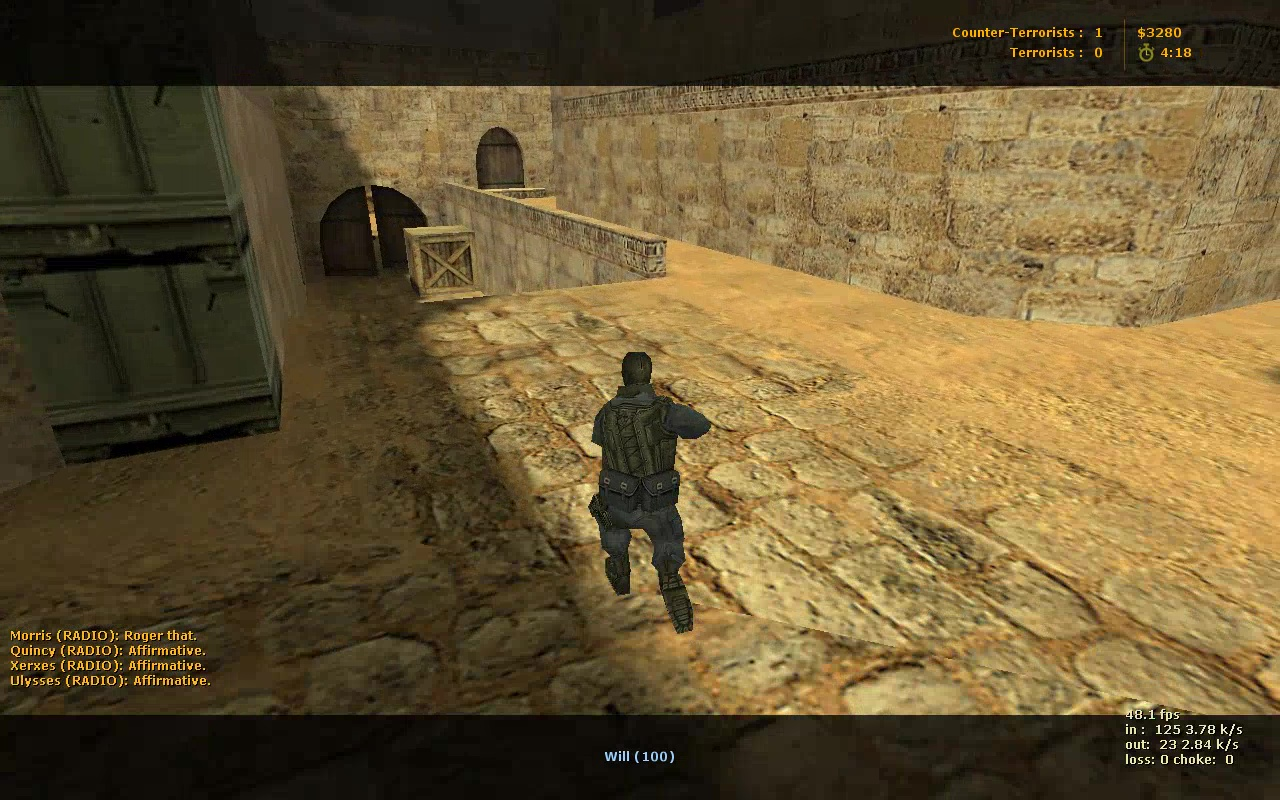ct: (590, 352, 709, 635)
